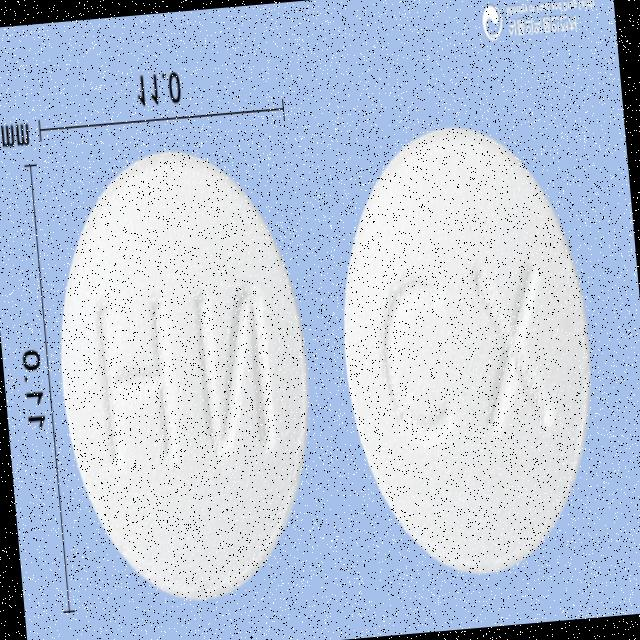Cipron: (321, 108, 614, 589), (39, 136, 330, 614)
